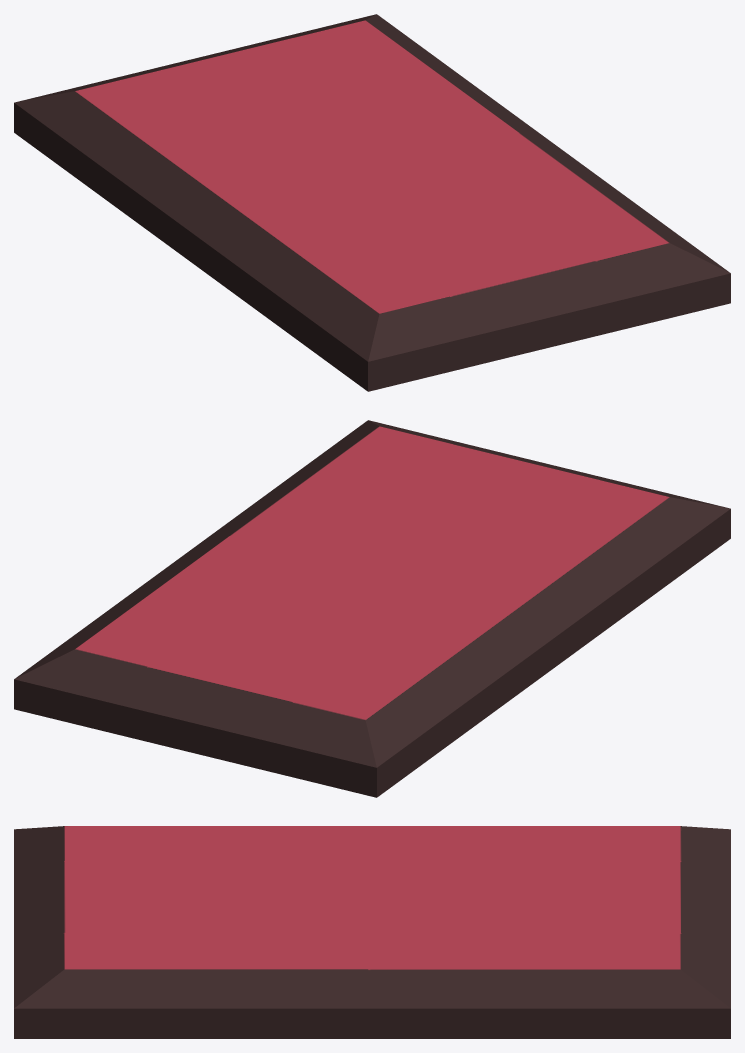
File: GridCPU.fbx
3 renders of one model, top to bottom at view 1: azimuth 30°, elevation 25°; view 2: azimuth 150°, elevation 25°; view 3: azimuth 270°, elevation 25°, orthographic.
Visible parts, largest first — view 1: GridCPU; view 2: GridCPU; view 3: GridCPU.
Part boxes in pixels (bbox=[...]): GridCPU: bbox=[14, 14, 730, 391]; GridCPU: bbox=[14, 420, 730, 797]; GridCPU: bbox=[14, 826, 730, 1038].
Size of the model in its own units: 151 by 20.22 by 255.
1 material, 1 textured.
